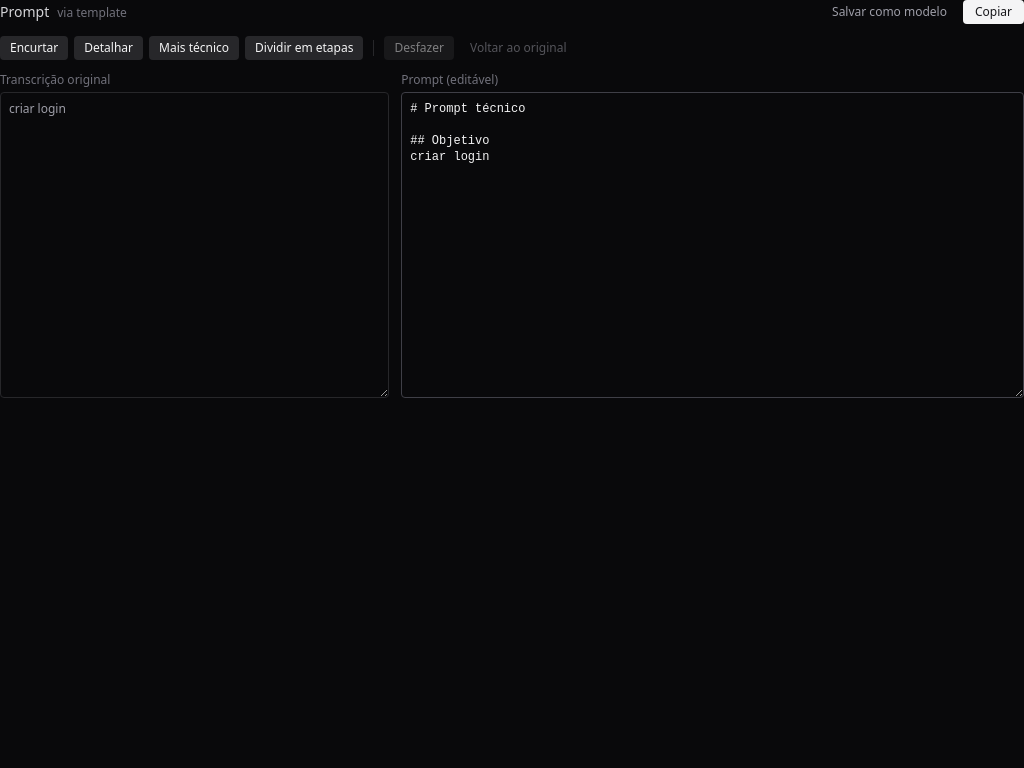
Test case: PromptEditor › saves pending edits before opening the save-as-template dialog
The width and height of the screenshot is (1024, 768).
Type " extra" into the text box labelled "Prompt (editável)".
click(713, 245); type(" extra")  # box [401,92,1023,398]
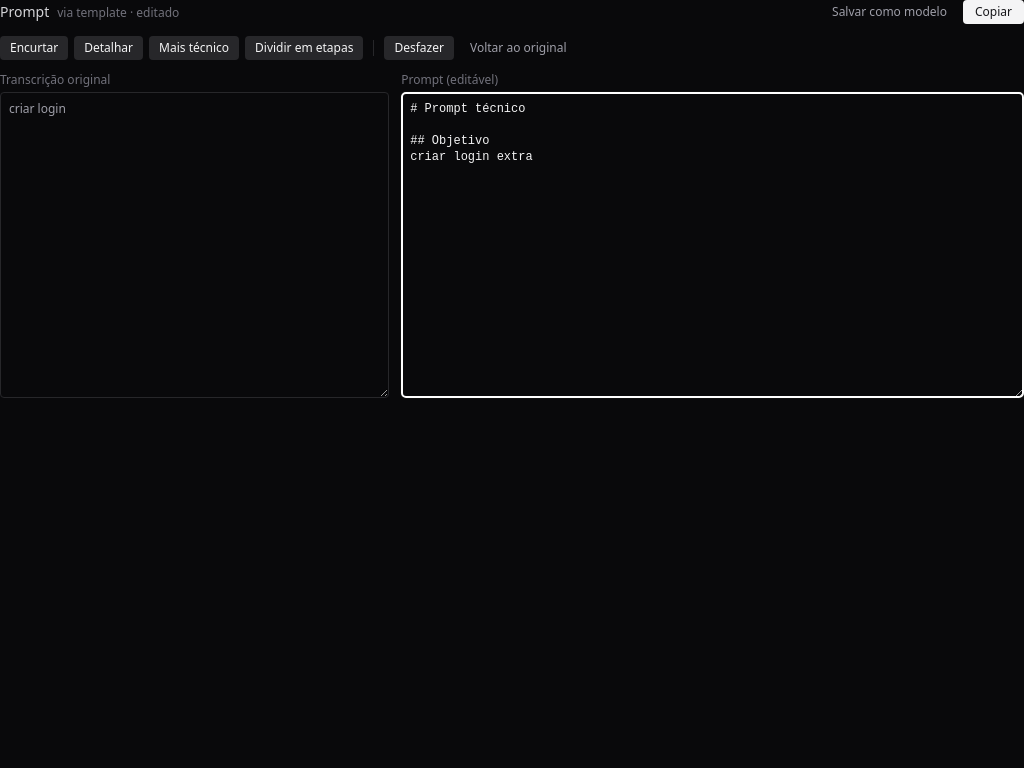
Click the button "Salvar como modelo".
click(889, 12)  # box [822,0,957,24]
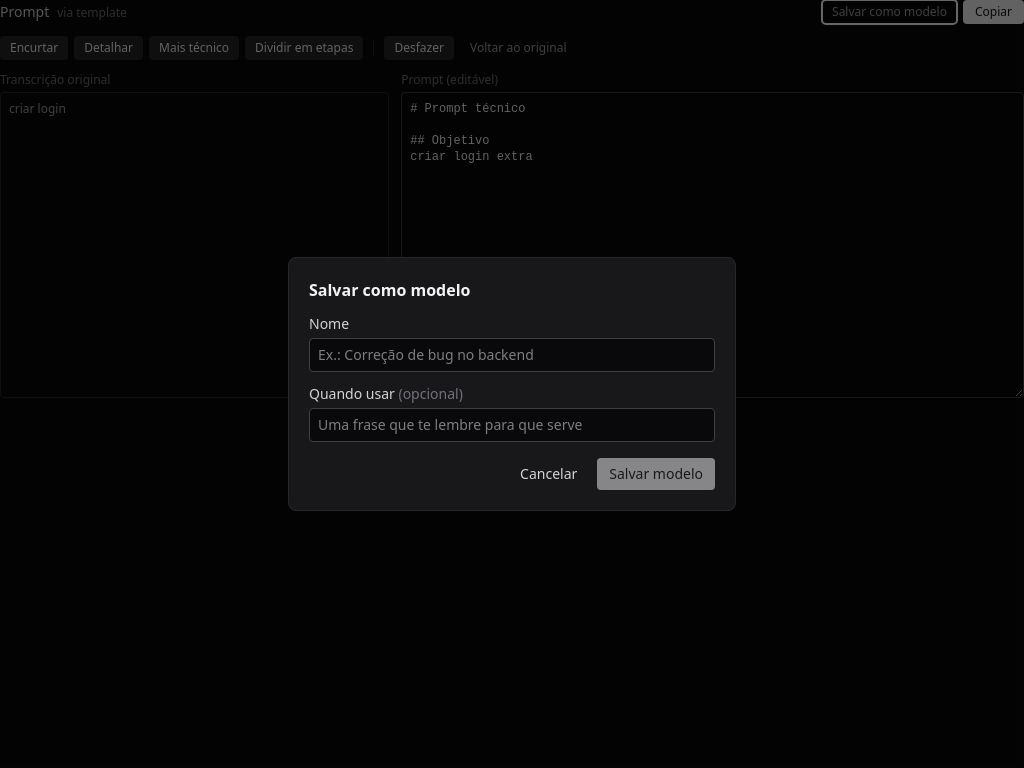
Expected: the button "Salvar modelo" is shown, [597,458,715,490]
